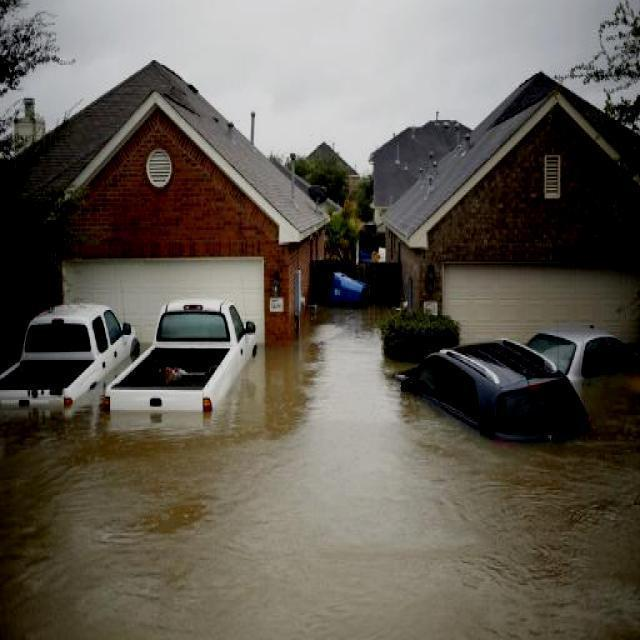water: (0, 303, 637, 636)
